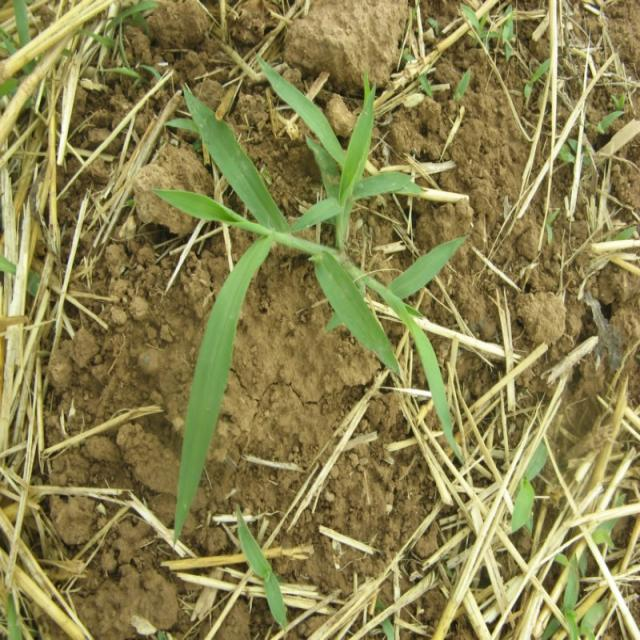bg: (153, 64, 461, 528)
